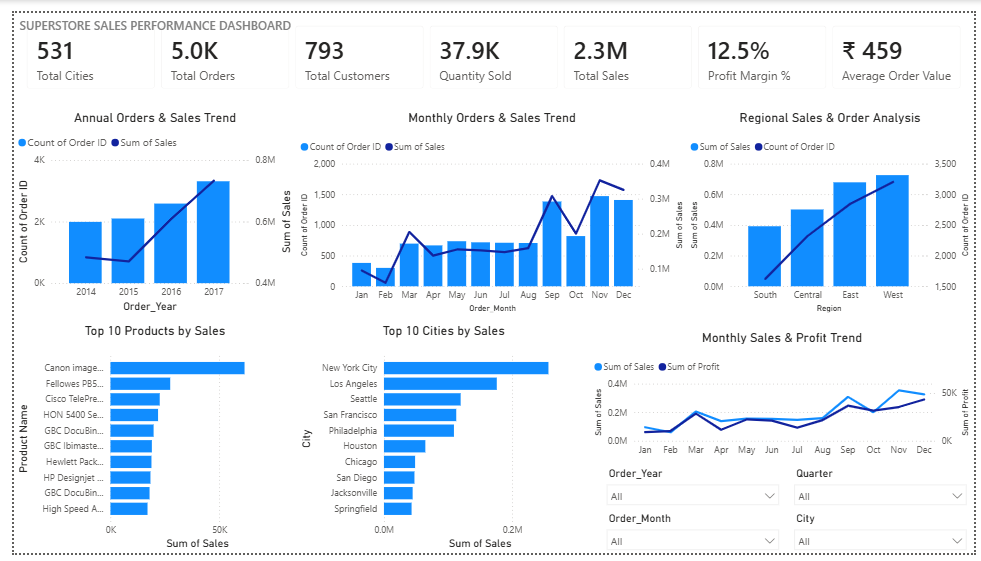

What the dashboard file says about the page in this screenshot:
{"tool":"powerbi","page":{"name":"Page 1","canvas":[1280,720],"ordinal":0},"visuals":[{"type":"cardVisual","fields":{"Data":["Sample - Superstore.Total Cities","Sample - Superstore.Total Orders","Sample - Superstore.Total Customers","Sample - Superstore.Total Quantity","Sample - Superstore.Total Sales","Sample - Superstore.Profit Margin %","Sample - Superstore.AOV"]},"box":[0,0,1280.3,118],"z":0},{"type":"lineStackedColumnComboChart","title":"Monthly Orders & Sales Trend","fields":{"Y2":["Sum(Sample - Superstore.Sales)"],"Category":["Sample - Superstore.Order_Month"],"Y":["CountNonNull(Sample - Superstore.Order ID)"]},"box":[376,118,521.4,285.4],"z":1000},{"type":"lineStackedColumnComboChart","title":"Annual Orders & Sales Trend","fields":{"Category":["Sample - Superstore.Order_Year"],"Y2":["Sum(Sample - Superstore.Sales)"],"Y":["CountNonNull(Sample - Superstore.Order ID)"]},"box":[0,118,376,285.4],"z":2000},{"type":"clusteredBarChart","title":"Top 10 Cities by Sales","fields":{"Y":["Sum(Sample - Superstore.Sales)"],"Category":["Sample - Superstore.City"]},"box":[376,403.4,392.5,317],"z":3000},{"type":"clusteredBarChart","title":"Top 10 Products by Sales","fields":{"Category":["Sample - Superstore.Product Name"],"Y":["Sum(Sample - Superstore.Sales)"]},"box":[0,403.4,376,317],"z":4000},{"type":"lineStackedColumnComboChart","title":"Regional Sales & Order Analysis","fields":{"Category":["Sample - Superstore.Region"],"Y":["Sum(Sample - Superstore.Sales)"],"Y2":["CountNonNull(Sample - Superstore.Order ID)"]},"box":[897.4,118,382.8,285.4],"z":5000},{"type":"lineChart","title":"Monthly Sales & Profit Trend","fields":{"Category":["Sample - Superstore.Order_Month"],"Y":["Sum(Sample - Superstore.Sales)"],"Y2":["Sum(Sample - Superstore.Profit)"]},"box":[768.3,411.7,511.7,188.3],"z":6000},{"type":"slicer","fields":{"Values":["Sample - Superstore.Order_Year"]},"box":[780,600,250,60],"z":6000,"group":"g1"},{"type":"slicer","fields":{"Values":["Sample - Superstore.Order_Month"]},"box":[780,660,250,60],"z":7000,"group":"g1"},{"type":"slicer","fields":{"Values":["Sample - Superstore.City"]},"box":[1030,660,250,60],"z":8000,"group":"g1"},{"type":"slicer","fields":{"Values":["Sample - Superstore.Quarter"]},"box":[1030,600,250,60],"z":9000,"group":"g1"},{"type":"group","id":"g1","title":"Group 1","box":[780,600,500,120],"z":9001},{"type":"textbox","box":[0,0,376.7,31.7],"z":9003}]}

Visuals, with their boxes in screenshot pixels (x1, y1, x2, y2), scaled from the page's 1280x720 canvas onto the 981x561 screenshot:
cardVisual - Sample - Superstore.Total Cities x Sample - Superstore.Total Orders: [0, 0, 980, 92]
"Monthly Orders & Sales Trend" lineStackedColumnComboChart: [288, 92, 688, 314]
"Annual Orders & Sales Trend" lineStackedColumnComboChart: [0, 92, 288, 314]
"Top 10 Cities by Sales" clusteredBarChart: [288, 314, 589, 560]
"Top 10 Products by Sales" clusteredBarChart: [0, 314, 288, 560]
"Regional Sales & Order Analysis" lineStackedColumnComboChart: [688, 92, 980, 314]
"Monthly Sales & Profit Trend" lineChart: [589, 321, 980, 468]
slicer - Sample - Superstore.Order_Year: [598, 468, 789, 514]
slicer - Sample - Superstore.Order_Month: [598, 514, 789, 560]
slicer - Sample - Superstore.City: [789, 514, 980, 560]
slicer - Sample - Superstore.Quarter: [789, 468, 980, 514]
"Group 1" group: [598, 468, 980, 560]
textbox: [0, 0, 289, 25]
